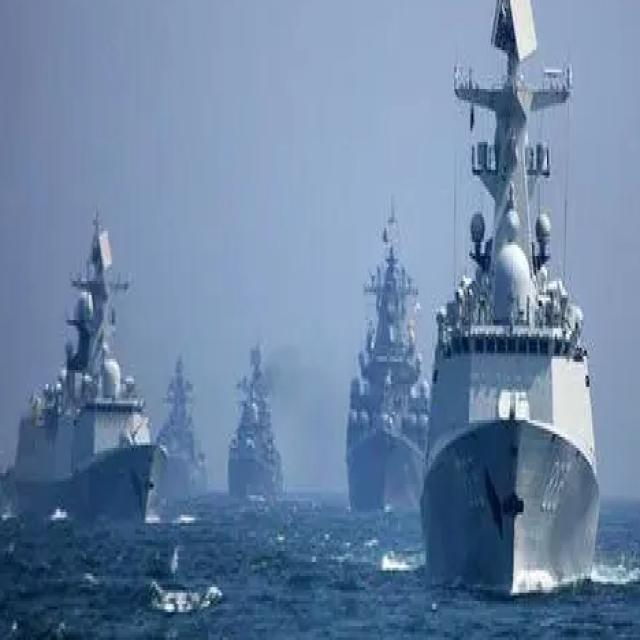navalvessels: (420, 0, 606, 587), (2, 215, 152, 527), (343, 185, 434, 512), (226, 332, 281, 503), (154, 349, 208, 514)
